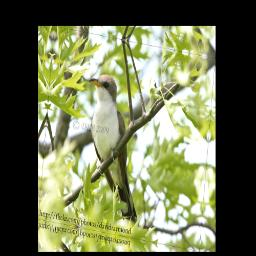Cuckoo: (77, 69, 149, 227)
